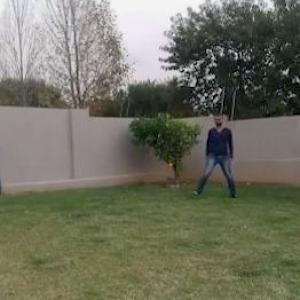follow: (209, 107, 230, 195)
